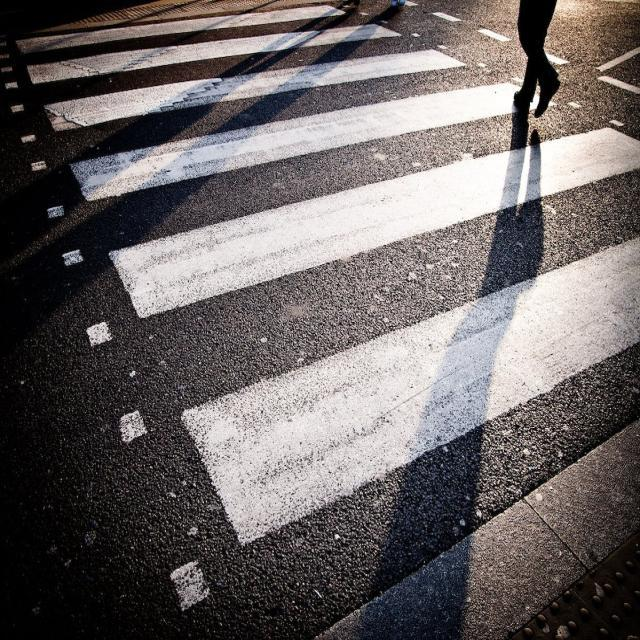crosswalk: (0, 7, 638, 639)
